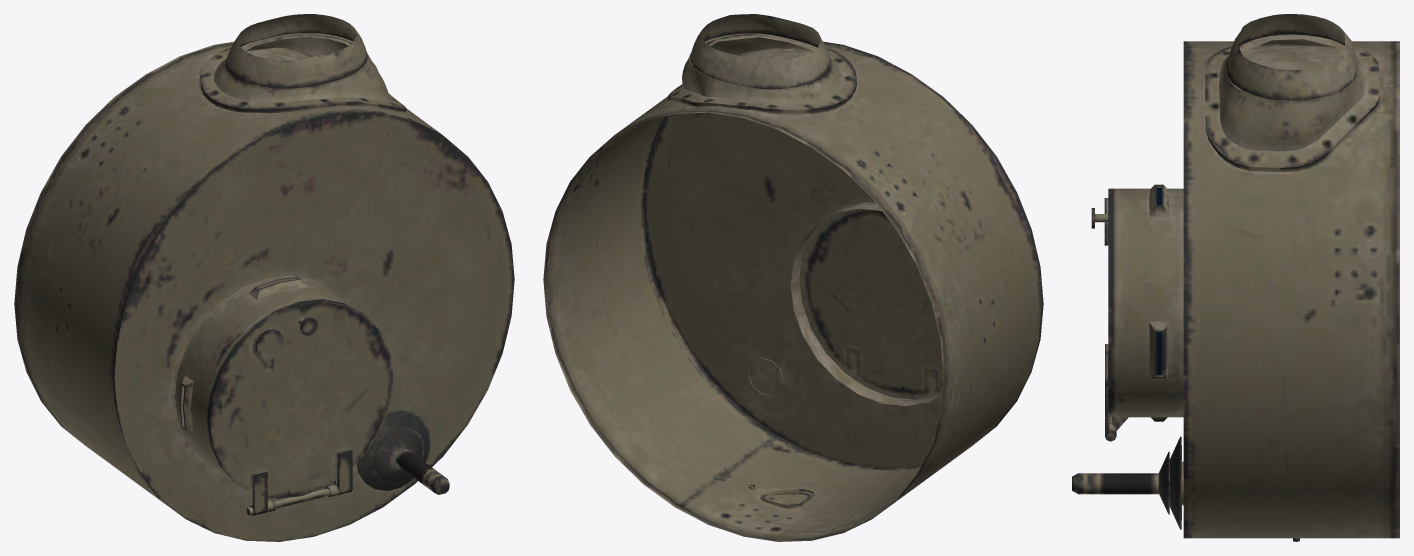
File: Turret_01.glb
The picture shows the model from 3 angles, left to right: view 1: azimuth 30°, elevation 25°; view 2: azimuth 150°, elevation 25°; view 3: azimuth 270°, elevation 25°; orthographic projection. The views are drawn at different scales.
Visible parts, largest first — view 1: set_0_group_0; view 2: set_0_group_0; view 3: set_0_group_0.
Boxes of the visible parts, bbox=[...] form: set_0_group_0: bbox=[14, 14, 514, 541]; set_0_group_0: bbox=[543, 14, 1043, 541]; set_0_group_0: bbox=[1072, 14, 1399, 541].
Bounding box in the file's own units: 1.23 × 1.35 × 0.8066.
Materials: 1 (1 with a texture image).
